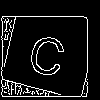C: (25, 24, 71, 79)
